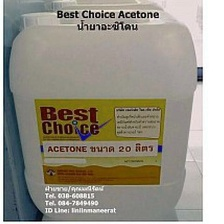cleaning_solution: (6, 5, 199, 221)
